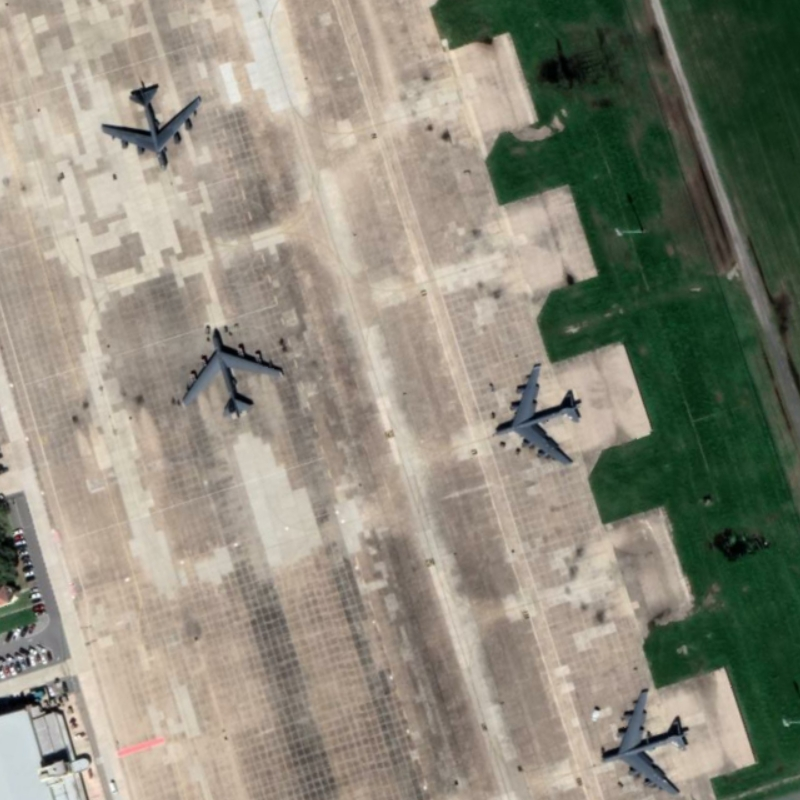A8: (173, 321, 294, 425), (591, 681, 699, 797), (485, 358, 589, 475), (93, 75, 209, 173)
